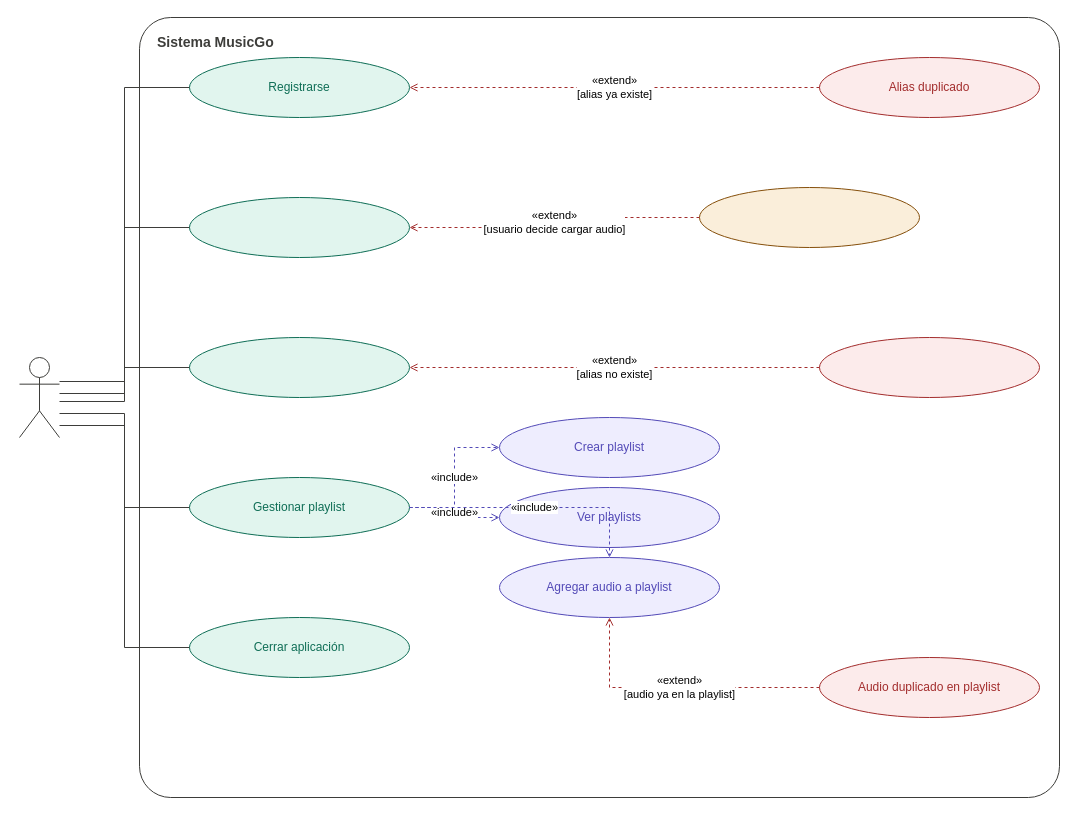
The diagram is 1077 pixels wide and 815 high, and some of its shapes have lost their labels. The shapes that lost their labels are listed below. From the top down, each one's centre as x and y in pixels, then its label:
At pixel 299 227: "Ver catálogo".
At pixel 809 217: "Cargar audio (bono)".
At pixel 299 367: "Iniciar sesión".
At pixel 929 367: "Acceso denegado".
At pixel 39 397: "Usuario".
